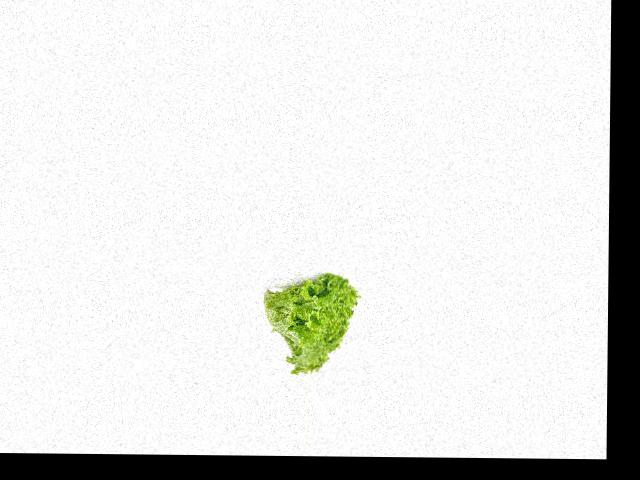lettuce: (256, 272, 366, 378)
